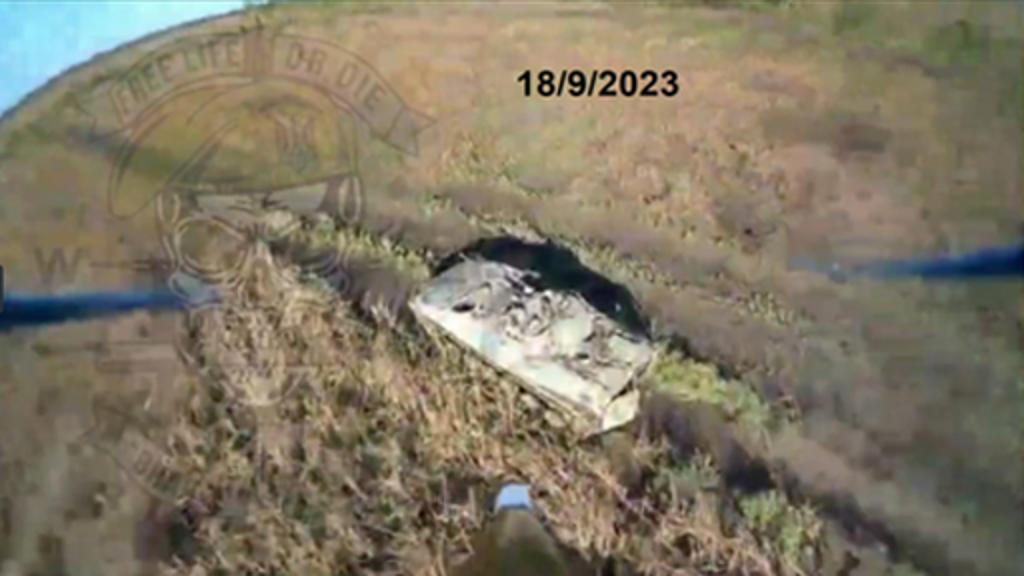APC-IFV: (392, 250, 666, 450)
